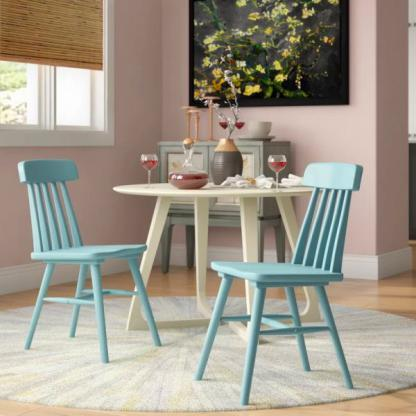chair: (193, 145, 366, 404), (14, 145, 165, 378)
table: (124, 177, 332, 356), (152, 137, 291, 279)
